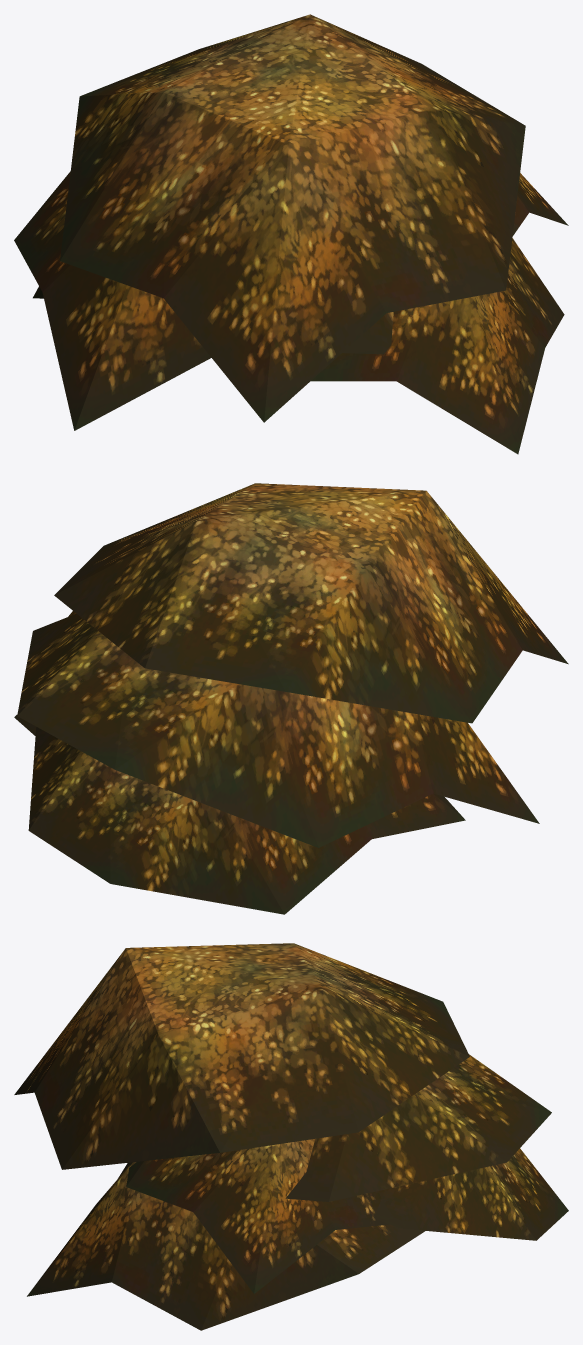
Rendered from plants_gnarled_trees01.fbx.
The picture shows the model from 3 angles, top to bottom: view 1: azimuth 30°, elevation 25°; view 2: azimuth 150°, elevation 25°; view 3: azimuth 270°, elevation 25°; orthographic projection. The views are drawn at different scales.
Parts seen in each view (by area): view 1: obj0.124; view 2: obj0.124; view 3: obj0.124.
Part boxes in pixels (x1,y1,x2,y2): obj0.124: (14,14,568,454); obj0.124: (14,483,568,914); obj0.124: (14,943,568,1330).
Size of the model in its own units: 8.66 by 5.2 by 9.05.
